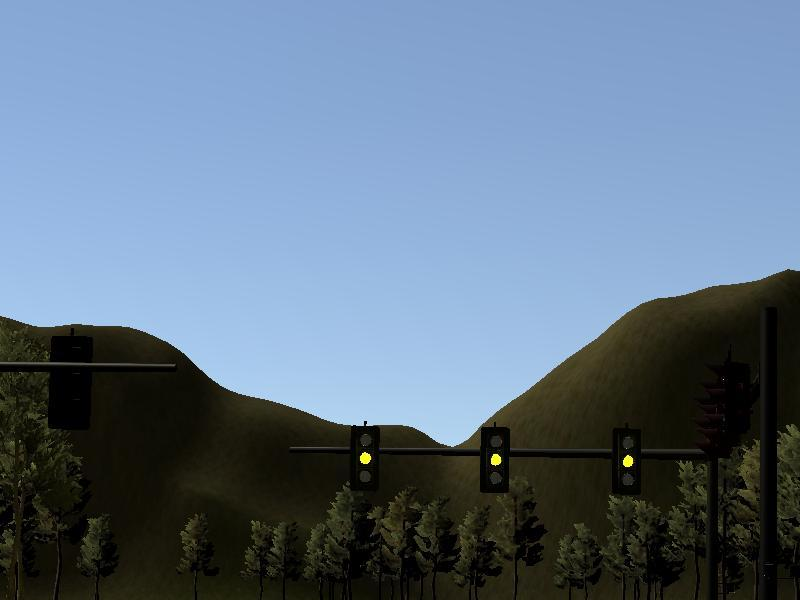Yellow: (480, 427, 510, 493), (612, 428, 641, 496), (351, 426, 379, 491)
